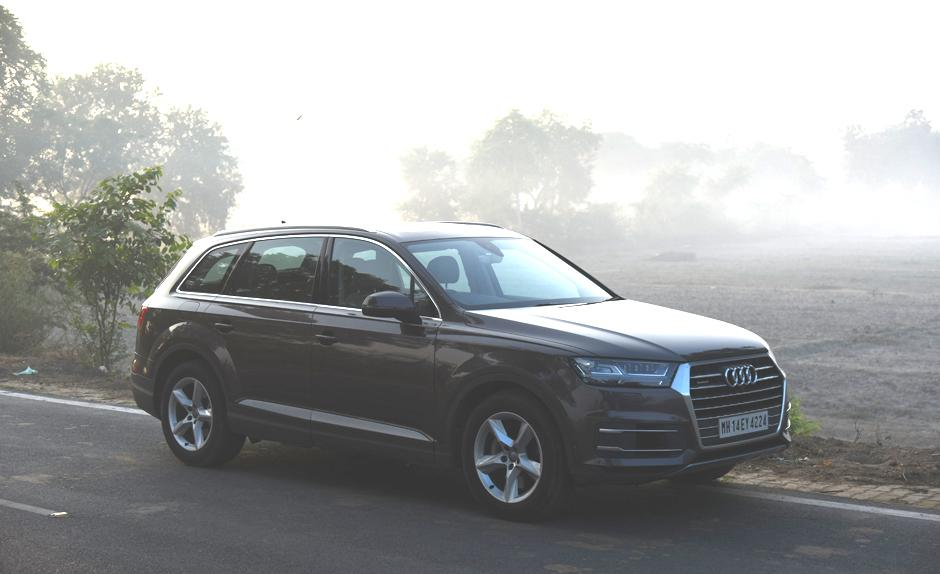car: (128, 215, 794, 521)
